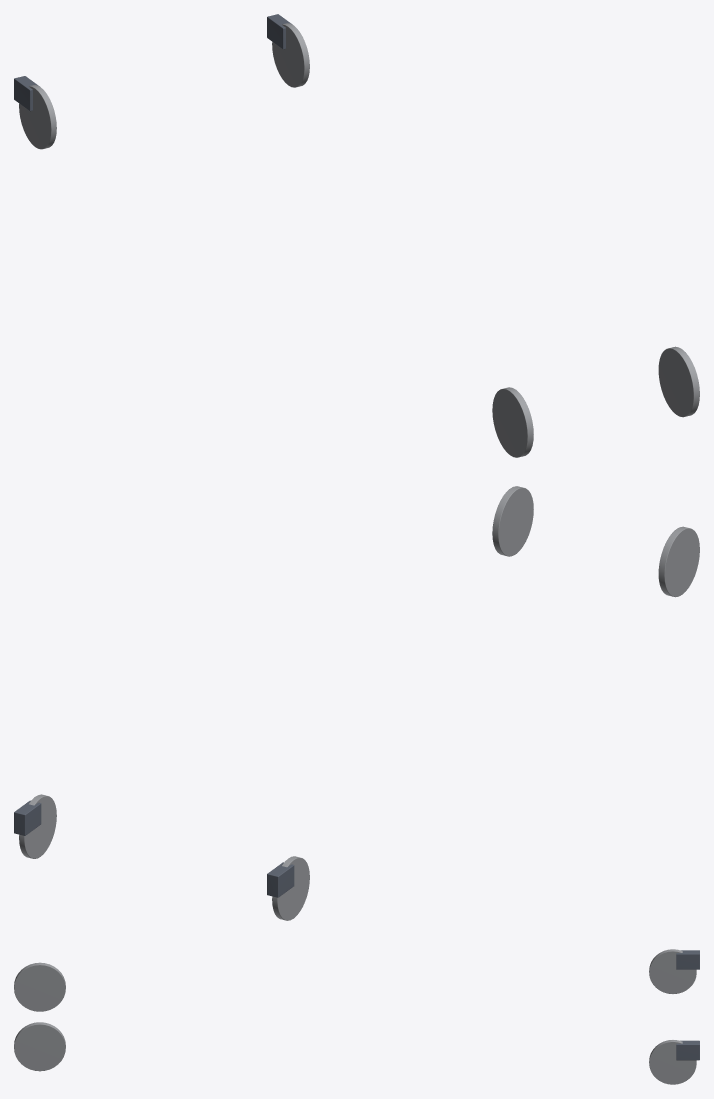
The model's file is brakes.glb.
The picture shows the model from 3 angles, top to bottom: view 1: azimuth 30°, elevation 25°; view 2: azimuth 150°, elevation 25°; view 3: azimuth 270°, elevation 25°; orthographic projection. The views are drawn at different scales.
Parts seen in each view (by area): view 1: BRAKE_Rotor_RL, BRAKE_Rotor_RR, BRAKE_Rotor_FL, BRAKE_Rotor_FR; view 2: BRAKE_Rotor_RR, BRAKE_Rotor_RL, BRAKE_Rotor_FR, BRAKE_Rotor_FL, BRAKE_Caliper_FR, BRAKE_Caliper_FL; view 3: BRAKE_Rotor_RL, BRAKE_Rotor_RR, BRAKE_Rotor_FR, BRAKE_Rotor_FL, BRAKE_Caliper_FL, BRAKE_Caliper_FR.
Boxes of the visible parts, bbox=[...] form: BRAKE_Rotor_RL: bbox=[658, 346, 699, 417]; BRAKE_Rotor_RR: bbox=[492, 387, 533, 457]; BRAKE_Rotor_FL: bbox=[272, 23, 309, 87]; BRAKE_Rotor_FR: bbox=[19, 85, 56, 149]; BRAKE_Rotor_RR: bbox=[658, 526, 699, 597]; BRAKE_Rotor_RL: bbox=[492, 486, 533, 556]; BRAKE_Rotor_FR: bbox=[272, 856, 309, 920]; BRAKE_Rotor_FL: bbox=[19, 794, 56, 858]; BRAKE_Caliper_FR: bbox=[267, 862, 294, 897]; BRAKE_Caliper_FL: bbox=[14, 800, 41, 835]; BRAKE_Rotor_RL: bbox=[14, 1022, 65, 1071]; BRAKE_Rotor_RR: bbox=[14, 962, 65, 1011]; BRAKE_Rotor_FR: bbox=[649, 949, 696, 993]; BRAKE_Rotor_FL: bbox=[649, 1040, 696, 1084]; BRAKE_Caliper_FL: bbox=[676, 1040, 699, 1060]; BRAKE_Caliper_FR: bbox=[676, 950, 699, 969].
Bounding box in the file's own units: 2.07 × 0.48 × 6.34.
